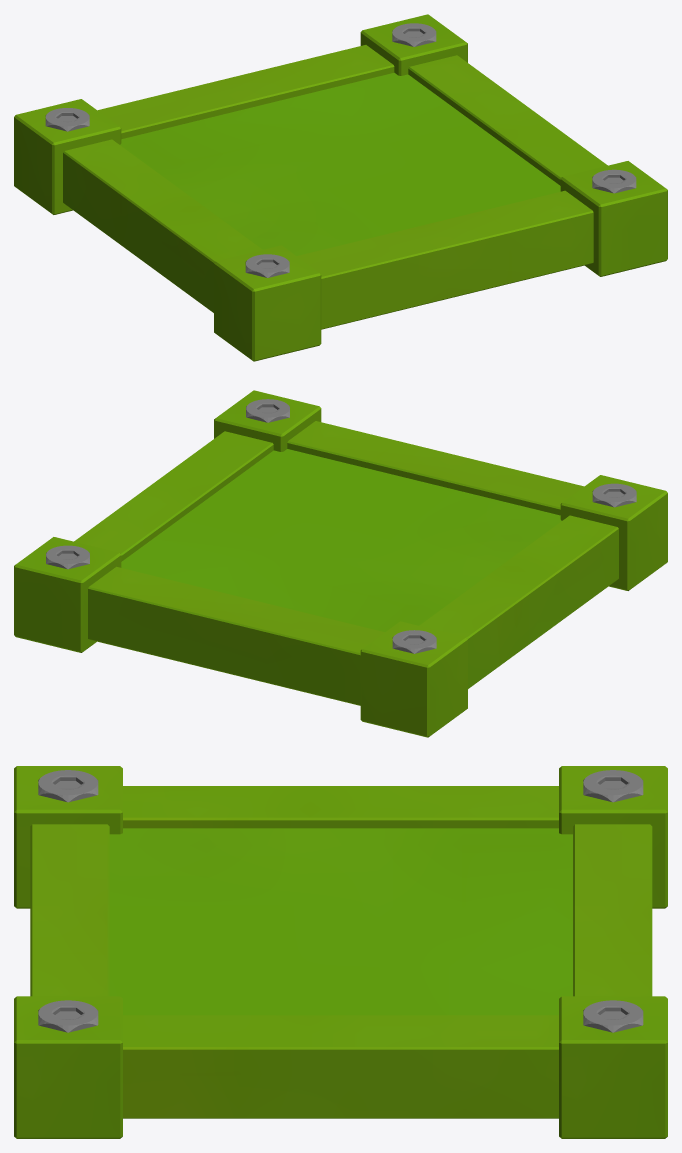
Rendered from SquareFramedPlatformGreen.fbx.
3 views of the same model, one above another, from view 1: azimuth 30°, elevation 25°; view 2: azimuth 150°, elevation 25°; view 3: azimuth 270°, elevation 25° (orthographic). The views are drawn at different scales.
Parts seen in each view (by area): view 1: Cube, Cube.001; view 2: Cube, Cube.001; view 3: Cube, Cube.001.
Part boxes in pixels (box(x1,y1,x2,y2)): Cube: box(14, 14, 667, 361); Cube.001: box(45, 23, 636, 277); Cube: box(14, 390, 667, 737); Cube.001: box(46, 399, 636, 653); Cube: box(14, 766, 667, 1138); Cube.001: box(38, 770, 643, 1032).
Size of the model in its own units: 6 by 1.05 by 6.
